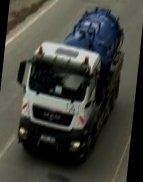truck: (8, 0, 128, 167)
